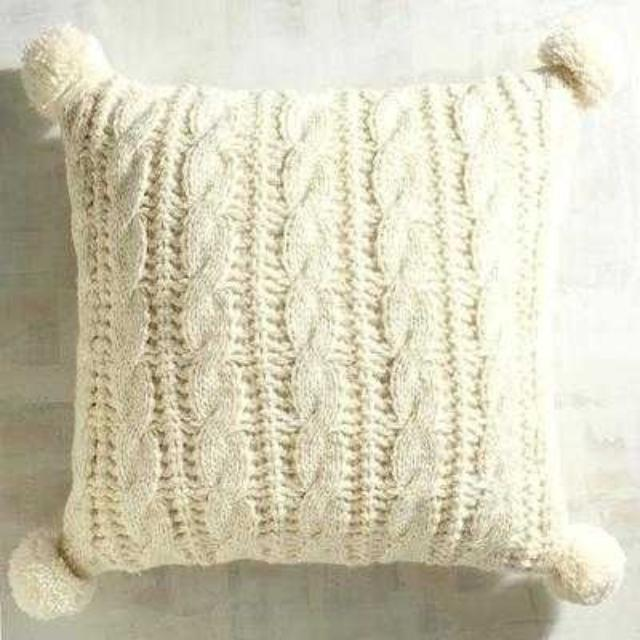pillow: (7, 18, 626, 620)
